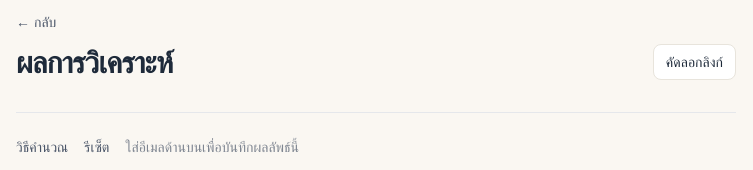
Test case: SelectorResultsPage — share button copies URL › copies the session-only URL to the clipboard and shows a toast
The width and height of the screenshot is (753, 170).
Click the button with test id "share-copy-button" at (694,62), box [653,44,736,80]
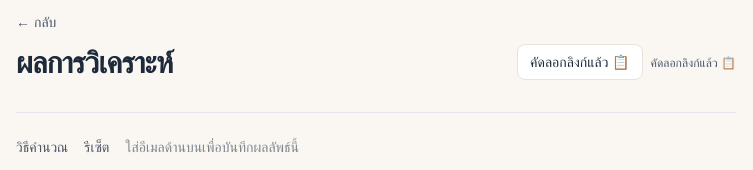
Check: the message with test id "share-toast" shows "คัดลอกลิงก์แล้ว", box [650,55,736,70]
